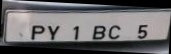character: (30, 24, 44, 40), (47, 24, 60, 40), (92, 24, 105, 40), (107, 24, 120, 40), (137, 23, 148, 39), (72, 24, 79, 41)
